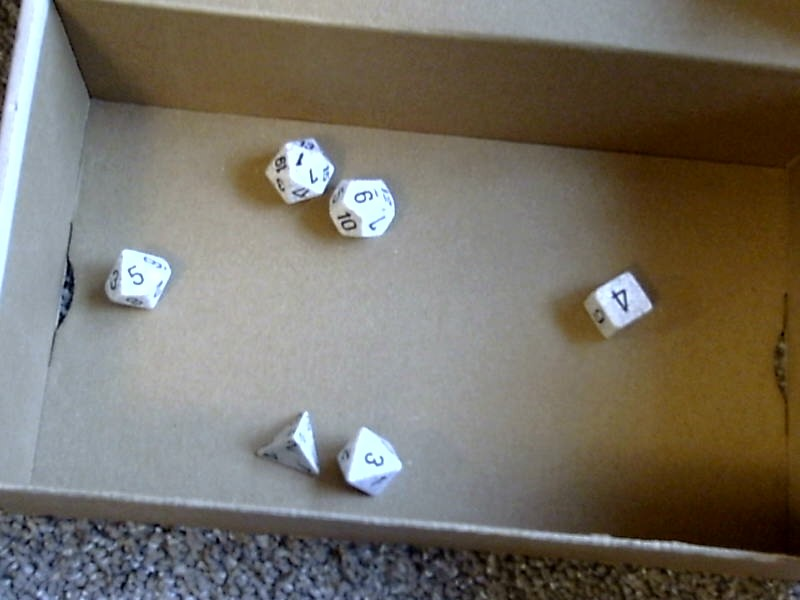d10 5: (97, 239, 183, 321)
d12 9: (328, 172, 402, 241)
d20 1: (255, 132, 335, 209)
d4 2: (249, 405, 329, 481)
d6 4: (577, 264, 658, 350)
d8 3: (335, 421, 410, 502)
